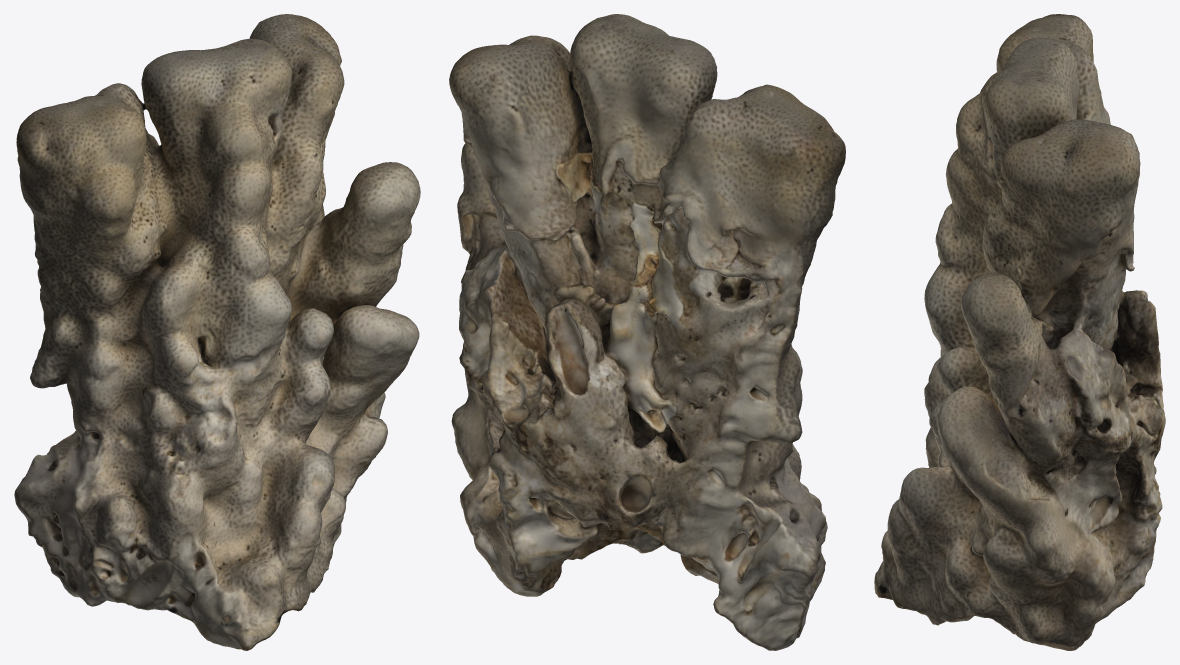
Rendered from usnm_188-100k-2048.gltf.
3 views of the same model, side by side, from view 1: azimuth 30°, elevation 25°; view 2: azimuth 150°, elevation 25°; view 3: azimuth 270°, elevation 25° (orthographic). The views are drawn at different scales.
Bounding box in the file's own units: 0.2485 × 0.3472 × 0.1629.
1 material, 1 textured.
